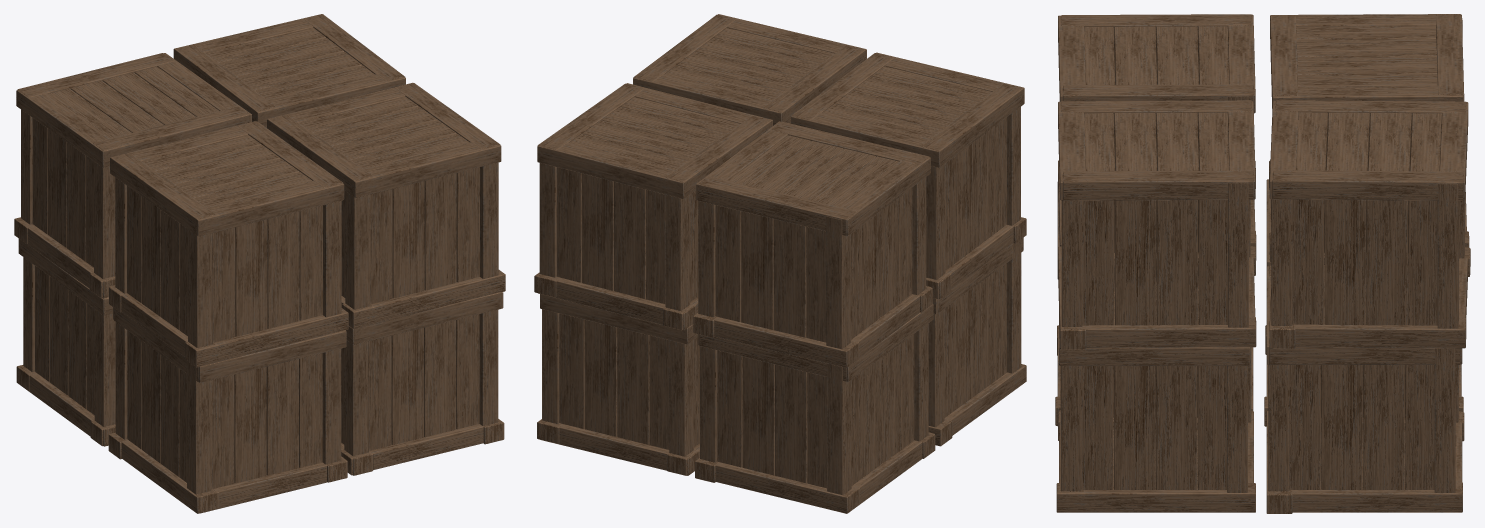
Rendered from SM_crate_group_02.fbx.
The picture shows the model from 3 angles, left to right: view 1: azimuth 30°, elevation 25°; view 2: azimuth 150°, elevation 25°; view 3: azimuth 270°, elevation 25°; orthographic projection. The views are drawn at different scales.
Parts seen in each view (by area): view 1: SM_crate_group_02; view 2: SM_crate_group_02; view 3: SM_crate_group_02.
Boxes of the visible parts, x1,y1,x2,y2 form: SM_crate_group_02: (14,14,505,513); SM_crate_group_02: (534,14,1026,513); SM_crate_group_02: (1055,14,1470,513).
Size of the model in its own units: 131 by 134 by 117.
1 material, 1 textured.
